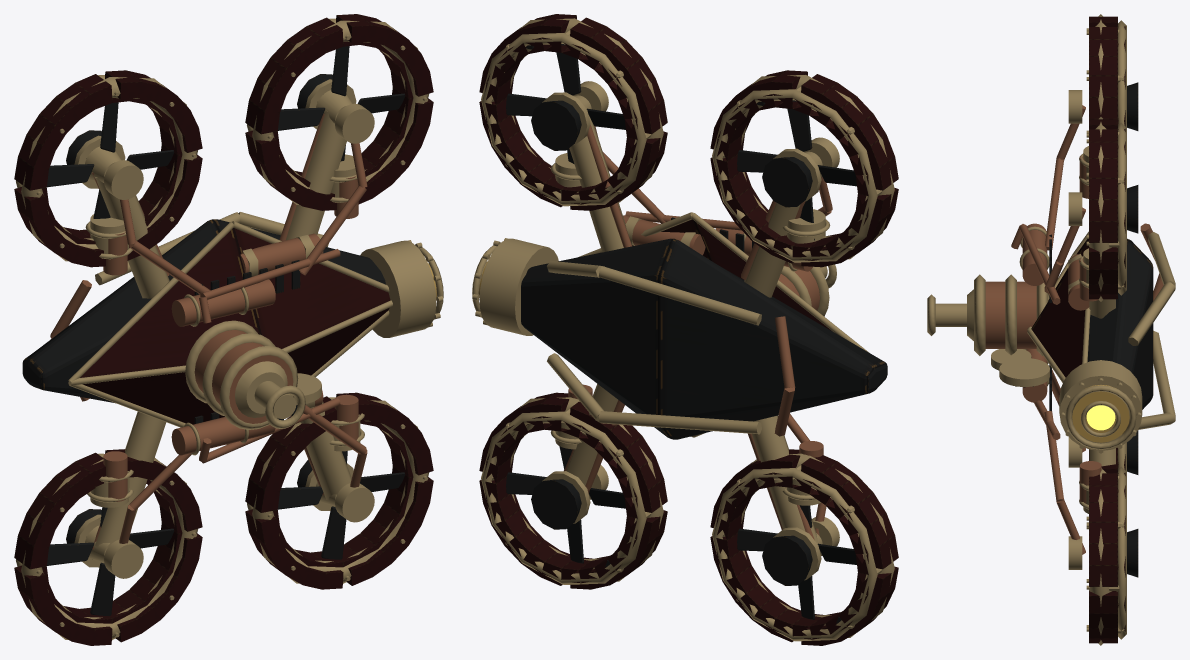
Rendered from drone-high.glb.
3 renders of one model, left to right at view 1: azimuth 30°, elevation 25°; view 2: azimuth 150°, elevation 25°; view 3: azimuth 270°, elevation 25°, orthographic. The views are drawn at different scales.
Visible parts, largest first — view 1: drone-root / Burgundy enamel, drone-root / Machined brass, drone-root / Copper feed lines, drone-root / Riveted iron, Survey rotor / Riveted iron, Survey rotor.001 / Riveted iron, Survey rotor.002 / Riveted iron, Survey rotor.003 / Riveted iron, Survey rotor.001 / Machined brass; view 2: drone-root / Burgundy enamel, drone-root / Machined brass, drone-root / Riveted iron, drone-root / Copper feed lines, Survey rotor.001 / Riveted iron, Survey rotor.003 / Riveted iron, Survey rotor.002 / Riveted iron, Survey rotor / Riveted iron; view 3: drone-root / Machined brass, drone-root / Burgundy enamel, drone-root / Copper feed lines, drone-root / Riveted iron, drone-root / Ore gold / optics, drone-root / Amber lamps.
Part boxes in pixels (box(x1,y1,x2,y2)): drone-root / Burgundy enamel: box(14, 14, 433, 645); drone-root / Machined brass: box(16, 18, 443, 640); drone-root / Copper feed lines: box(50, 113, 367, 549); drone-root / Riveted iron: box(22, 74, 385, 543); Survey rotor / Riveted iron: box(47, 507, 174, 615); Survey rotor.001 / Riveted iron: box(47, 102, 173, 218); Survey rotor.002 / Riveted iron: box(278, 451, 405, 559); Survey rotor.003 / Riveted iron: box(278, 46, 405, 161); Survey rotor.001 / Machined brass: box(85, 146, 121, 182); drone-root / Burgundy enamel: box(479, 14, 898, 645); drone-root / Machined brass: box(472, 18, 894, 641); drone-root / Riveted iron: box(521, 45, 887, 623); drone-root / Copper feed lines: box(564, 124, 832, 540); Survey rotor.001 / Riveted iron: box(737, 100, 856, 240); Survey rotor.003 / Riveted iron: box(506, 44, 625, 163); Survey rotor.002 / Riveted iron: box(506, 446, 625, 563); Survey rotor / Riveted iron: box(737, 505, 856, 619); drone-root / Machined brass: box(927, 14, 1175, 645); drone-root / Burgundy enamel: box(1031, 16, 1125, 643); drone-root / Copper feed lines: box(985, 105, 1163, 554); drone-root / Riveted iron: box(1015, 82, 1153, 577); drone-root / Ore gold / optics: box(1072, 385, 1129, 442); drone-root / Amber lamps: box(1086, 405, 1115, 430).
Bounding box in the file's own units: 1.15 × 1.52 × 0.6672.
Materials: 7 (2 with a texture image).
